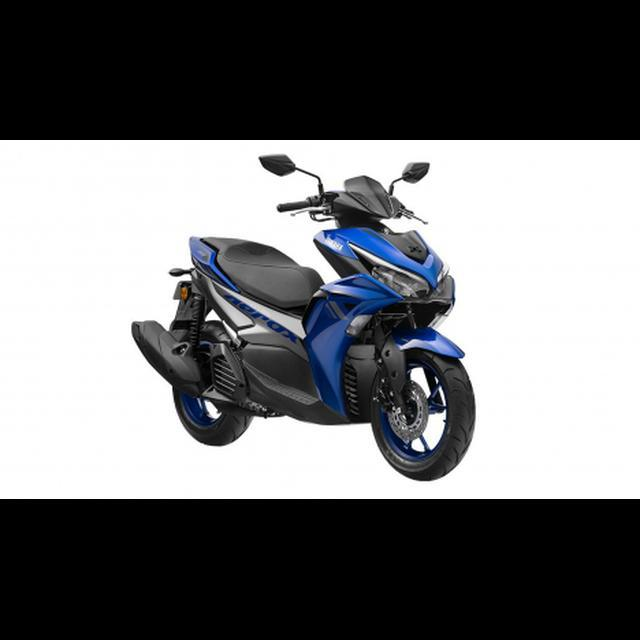motorcycle: (129, 147, 481, 485)
